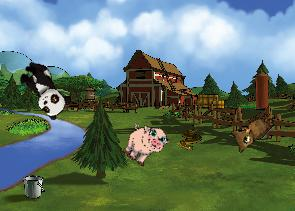owl: (224, 103, 276, 156)
panda: (12, 56, 75, 122)
pig: (117, 116, 172, 172)
